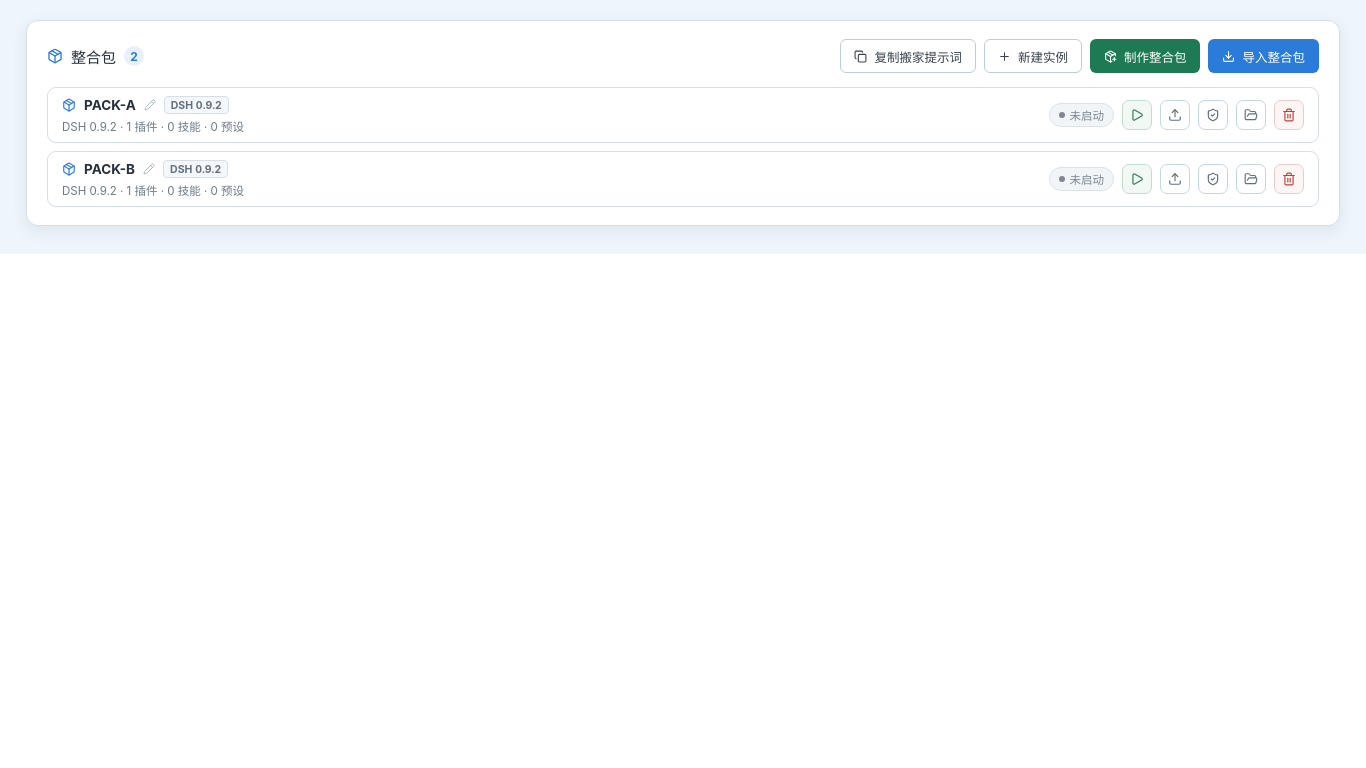
Scenario: 制作整合包的两处入口 › 行内上传图标打开同一个弹窗，并预选该行实例
Click the button titled "制作整合包" in the row of "PACK-B": (1175, 179) left=1160, top=164, right=1190, bottom=194
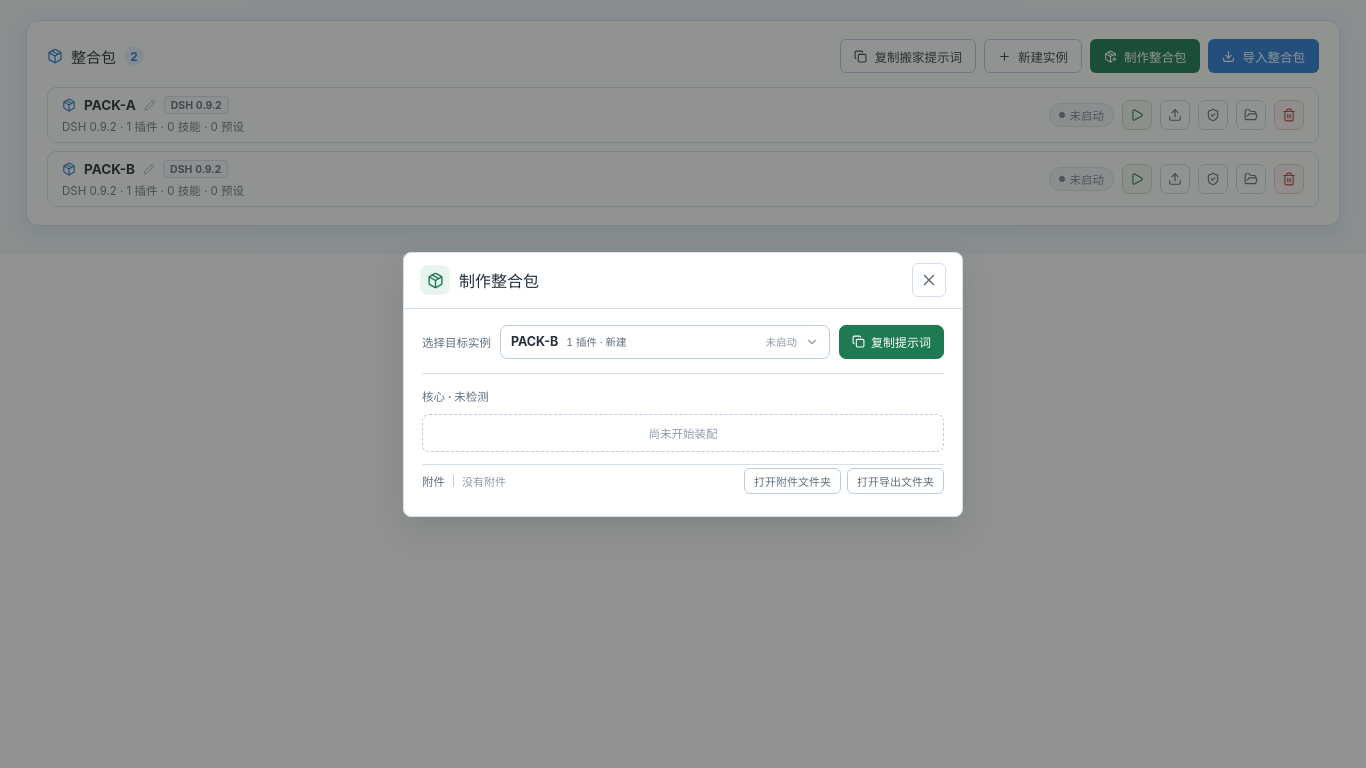
Now the dialog with class "build-dialog" is shown, box left=403, top=252, right=963, bottom=516
Now the text with class "build-select-name" reads "PACK-B", box left=511, top=334, right=558, bottom=349
